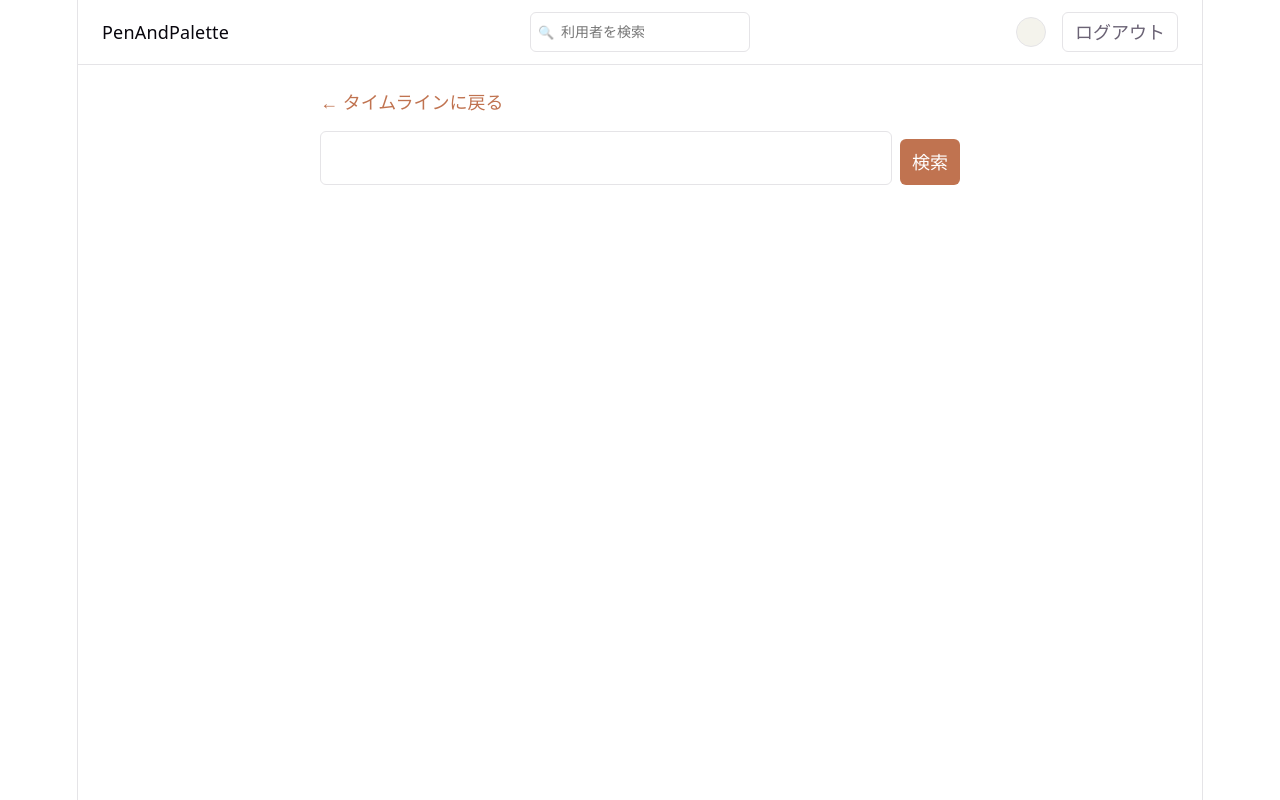
UserSearchView › 検索に失敗した場合はエラーメッセージを表示する
In the field with test id "user-search-keyword": (606, 158) [320,131,892,185], type "太郎"
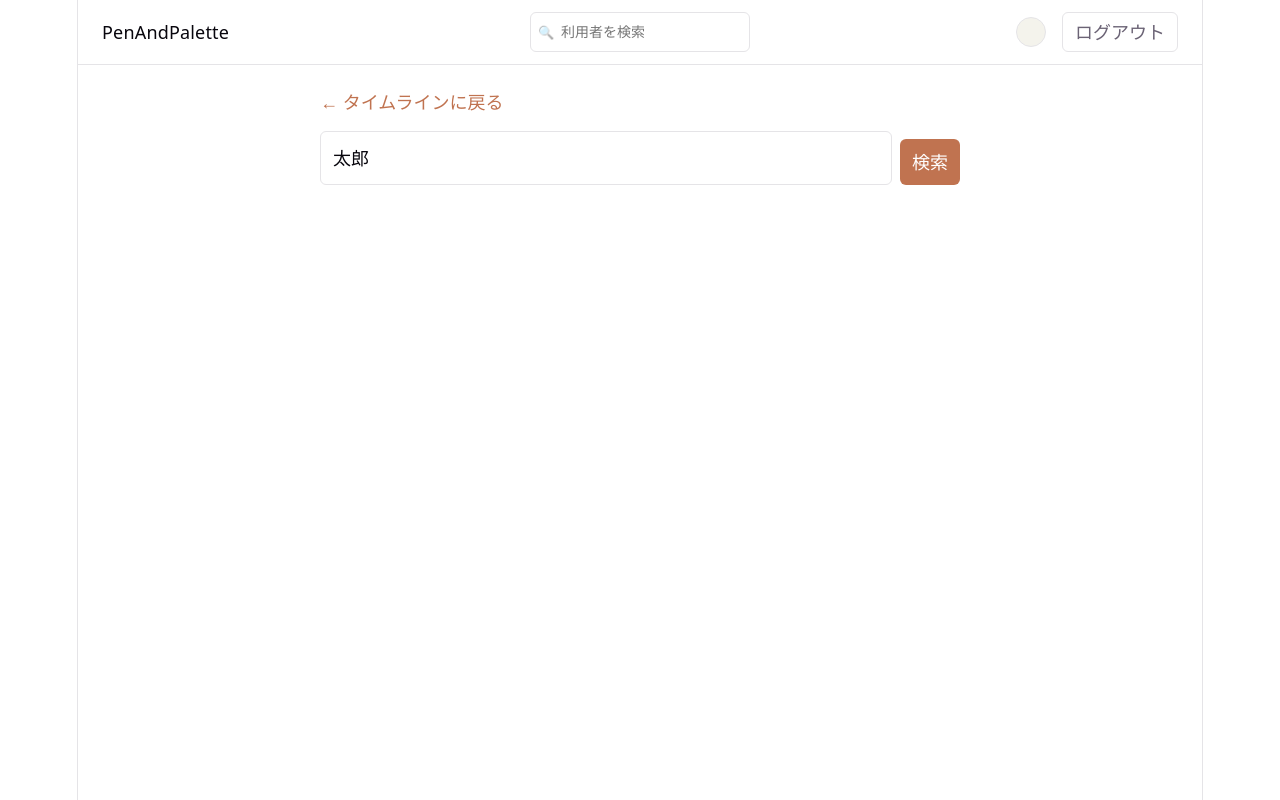
Click the button with test id "user-search-submit": (930, 162) [900,139,960,185]
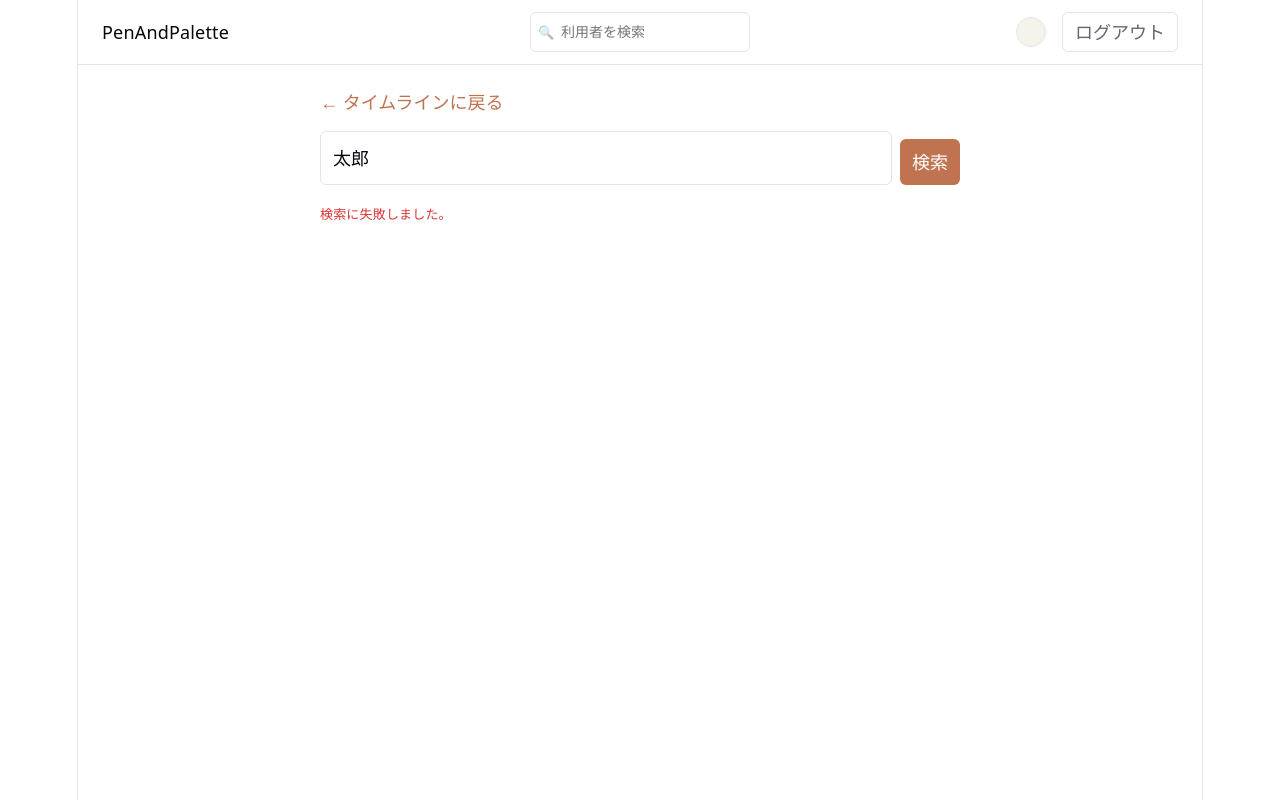
expect the text "検索に失敗しました。" is shown: met, box [320,205,452,223]
